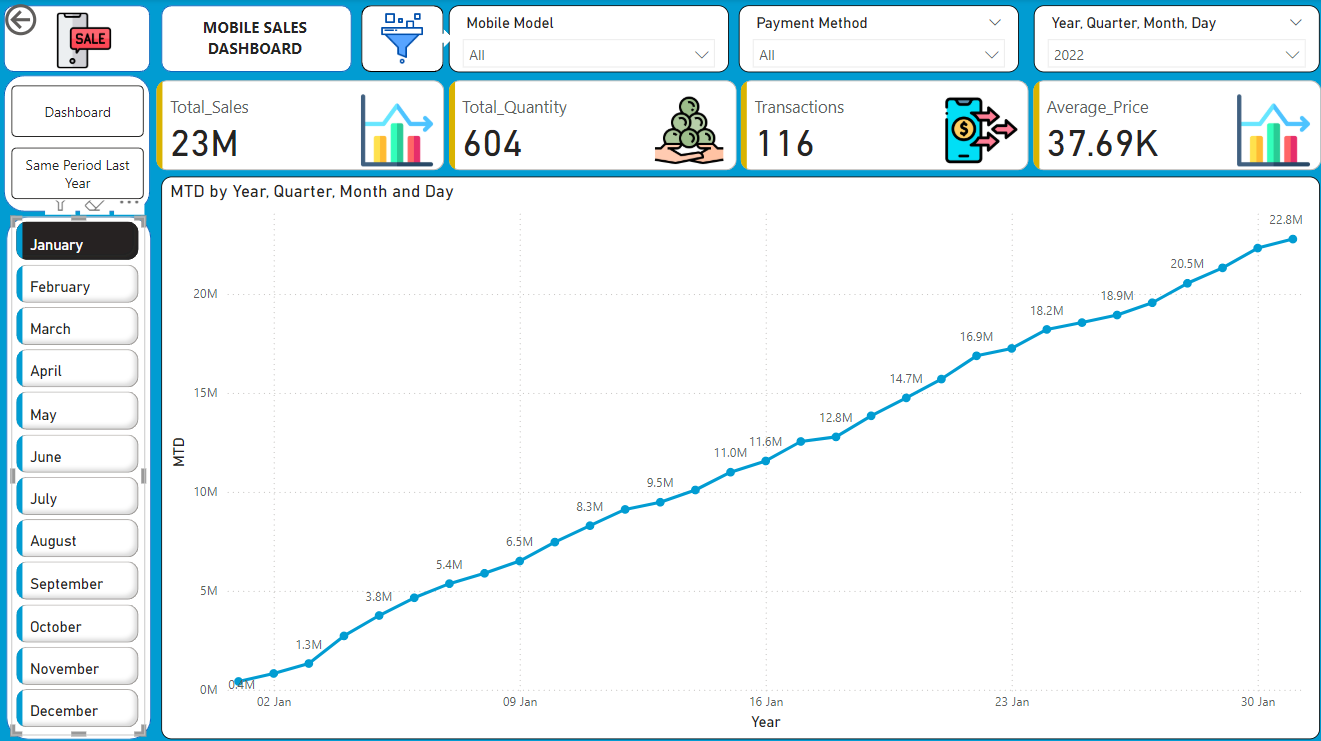

Layout of this report page (visuals, bound fields, positions):
{"tool":"powerbi","page":{"name":"MTD Report","canvas":[1280,720],"ordinal":1},"visuals":[{"type":"shape","box":[4.1,5.5,141.3,64.5],"z":0},{"type":"shape","box":[4.1,74.1,141.3,131.7],"z":1000},{"type":"cardVisual","fields":{"Data":["Sales_Data.Total_Sales","Sales_Data.Total_Quantity","Sales_Data.Transactions","Sales_Data.Average_Price"]},"box":[145.5,74.1,1134.8,97.4],"z":2000},{"type":"slicer","fields":{"Values":["Sales_Data.Mobile Model"]},"box":[433.6,5.5,270.3,64.5],"z":3000},{"type":"shape","box":[348.5,5.5,79.6,64.5],"z":4000},{"type":"slicer","fields":{"Values":["Sales_Data.Payment Method"]},"box":[713.6,5.5,270.3,64.5],"z":5000},{"type":"slicer","fields":{"Values":["Custon_Calandar.Date.Variation.Date Hierarchy.Year","Custon_Calandar.Date.Variation.Date Hierarchy.Quarter","Custon_Calandar.Date.Variation.Date Hierarchy.Month","Custon_Calandar.Date.Variation.Date Hierarchy.Day"]},"box":[997.6,5.5,275.8,64.5],"z":6000},{"type":"image","box":[321.1,8.2,134.5,59],"z":7000},{"type":"shape","box":[414.4,28.8,23.3,17.8],"z":8000},{"type":"shape","box":[155.1,5.5,183.9,64.5],"z":9000},{"type":"textbox","box":[171.5,12.3,149.6,52.1],"z":10000},{"type":"actionButton","box":[0,0,100,40],"z":11000},{"type":"lineChart","fields":{"Y":["Sales_Data.MTD"],"Category":["Custon_Calandar.Date.Variation.Date Hierarchy.Year","Custon_Calandar.Date.Variation.Date Hierarchy.Quarter","Custon_Calandar.Date.Variation.Date Hierarchy.Month","Custon_Calandar.Date.Variation.Date Hierarchy.Day"]},"box":[155.1,171.5,1118.4,543.4],"z":12000},{"type":"shape","box":[5.5,209.9,140,505],"z":13000},{"type":"advancedSlicerVisual","fields":{"Values":["Custon_Calandar.Date.Variation.Date Hierarchy.Month"]},"box":[11,209.9,129,500.9],"z":14000},{"type":"pageNavigator","box":[11,83.7,129,111.1],"z":14001},{"type":"image","box":[49.4,8.2,63.1,63.1],"z":14002}]}

Visuals, with their boxes in screenshot pixels (x1, y1, x2, y2), scaled from the page's 1280x720 canvas onto the 1321x741 screenshot:
shape: x1=4, y1=6, x2=150, y2=72
shape: x1=4, y1=76, x2=150, y2=212
cardVisual - Sales_Data.Total_Sales x Sales_Data.Total_Quantity: x1=150, y1=76, x2=1320, y2=177
slicer - Sales_Data.Mobile Model: x1=447, y1=6, x2=726, y2=72
shape: x1=360, y1=6, x2=442, y2=72
slicer - Sales_Data.Payment Method: x1=736, y1=6, x2=1015, y2=72
slicer - Custon_Calandar.Date.Variation.Date Hierarchy.Year x Custon_Calandar.Date.Variation.Date Hierarchy.Quarter: x1=1030, y1=6, x2=1314, y2=72
image: x1=331, y1=8, x2=470, y2=69
shape: x1=428, y1=30, x2=452, y2=48
shape: x1=160, y1=6, x2=350, y2=72
textbox: x1=177, y1=13, x2=331, y2=66
actionButton: x1=0, y1=0, x2=103, y2=41
lineChart - Sales_Data.MTD x Custon_Calandar.Date.Variation.Date Hierarchy.Year: x1=160, y1=177, x2=1314, y2=736
shape: x1=6, y1=216, x2=150, y2=736
advancedSlicerVisual - Custon_Calandar.Date.Variation.Date Hierarchy.Month: x1=11, y1=216, x2=144, y2=732
pageNavigator: x1=11, y1=86, x2=144, y2=200
image: x1=51, y1=8, x2=116, y2=73
